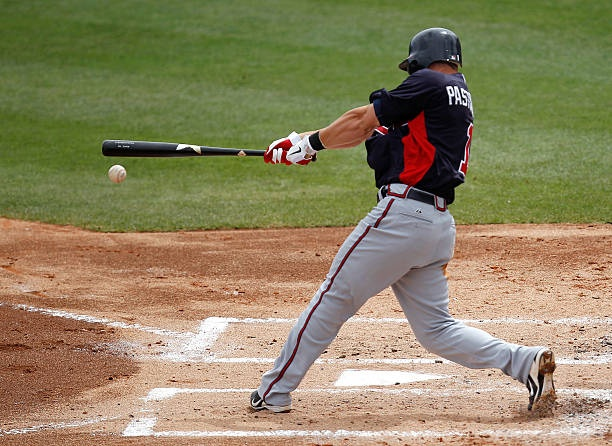bita: (103, 138, 311, 166)
